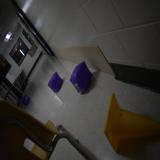cone: (103, 92, 160, 152)
cube: (70, 61, 93, 93), (48, 72, 63, 94), (21, 95, 30, 107)
